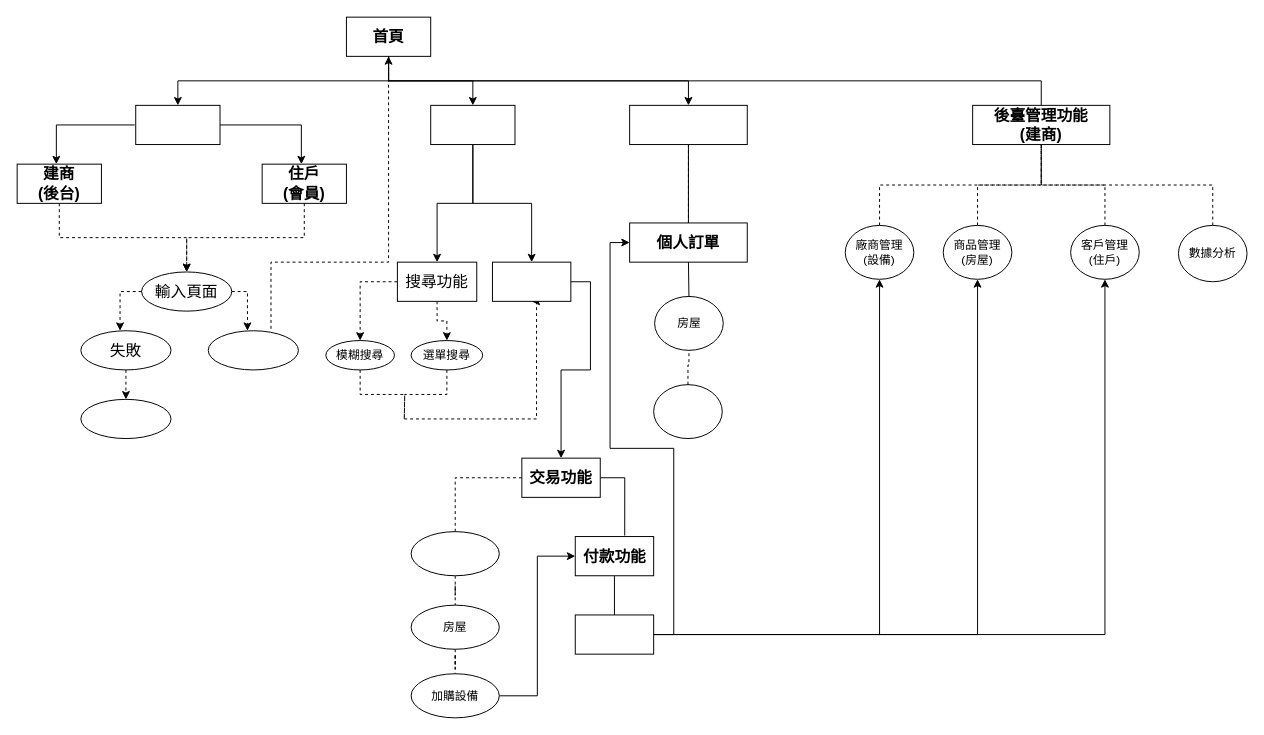
The diagram is 1264 pixels wide and 735 high, and some of its shapes have lost their labels. Each missing label, with the centre of its shape:
"前端管理功能 (住戶/會員)" goes at point (688, 124).
"商品陳列" goes at point (531, 281).
"商城 (待售房屋)" goes at point (472, 124).
"成功" goes at point (252, 350).
"會員登入" goes at point (177, 124).
"訂單成立" goes at point (614, 634).
"設備" goes at point (687, 411).
"購物車" goes at point (454, 553).
"重設個人資料" goes at point (125, 418).
